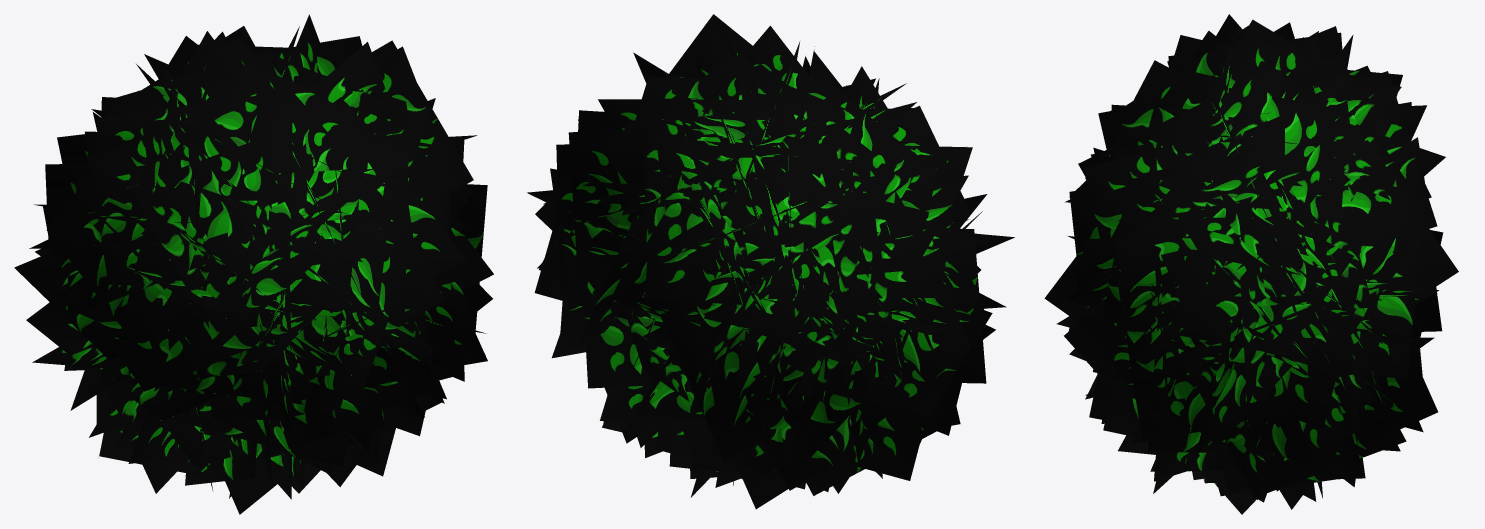
File: Bush.fbx
The picture shows the model from 3 angles, left to right: view 1: azimuth 30°, elevation 25°; view 2: azimuth 150°, elevation 25°; view 3: azimuth 270°, elevation 25°; orthographic projection.
Visible parts, largest first — view 1: KritaBase.003; view 2: KritaBase.003; view 3: KritaBase.003.
Part boxes in pixels (left/top/right/bottom): KritaBase.003: left=14, top=14, right=493, bottom=514; KritaBase.003: left=527, top=14, right=1014, bottom=509; KritaBase.003: left=1044, top=14, right=1458, bottom=514.
Bounding box in the file's own units: 314 × 317 × 261.
